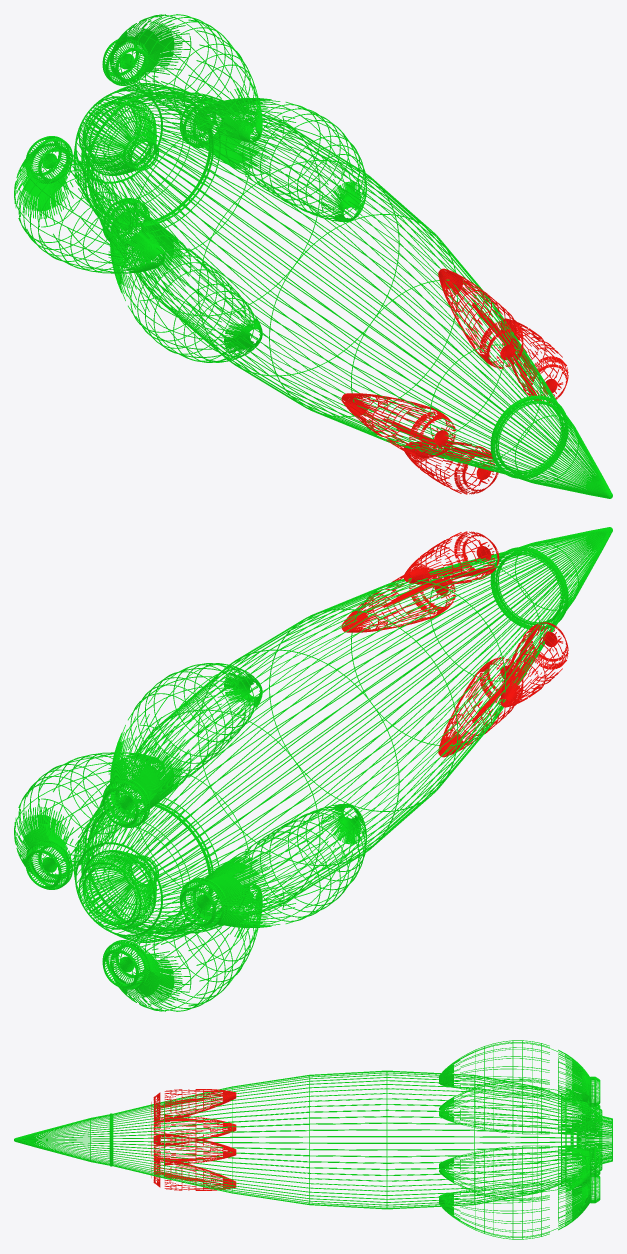
Rendered from nuclear-missile-highlight-air-brake-manoeuvring-system.glb.
3 renders of one model, top to bottom at view 1: azimuth 30°, elevation 25°; view 2: azimuth 150°, elevation 25°; view 3: azimuth 270°, elevation 25°, orthographic. The views are drawn at different scales.
Parts seen in each view (by area): view 1: chassis technical wire, four-delivery-thrusters technical wire, air-brake-manoeuvring-system technical wire, atomic-warhead-nose technical wire; view 2: chassis technical wire, four-delivery-thrusters technical wire, air-brake-manoeuvring-system technical wire, atomic-warhead-nose technical wire; view 3: chassis technical wire, four-delivery-thrusters technical wire, air-brake-manoeuvring-system technical wire, atomic-warhead-nose technical wire.
Part boxes in pixels (x1,y1,x2,y2): chassis technical wire: (73,83,541,464); four-delivery-thrusters technical wire: (14,14,366,362); air-brake-manoeuvring-system technical wire: (341,268,568,494); atomic-warhead-nose technical wire: (430,344,612,498); chassis technical wire: (73,561,541,942); four-delivery-thrusters technical wire: (14,663,366,1011); air-brake-manoeuvring-system technical wire: (341,531,568,757); atomic-warhead-nose technical wire: (430,527,612,680); chassis technical wire: (164,1070,612,1209); four-delivery-thrusters technical wire: (439,1040,600,1239); air-brake-manoeuvring-system technical wire: (151,1089,236,1190); atomic-warhead-nose technical wire: (14,1101,164,1178).
Size of the model in its own units: 2.21 by 2.21 by 6.19.
